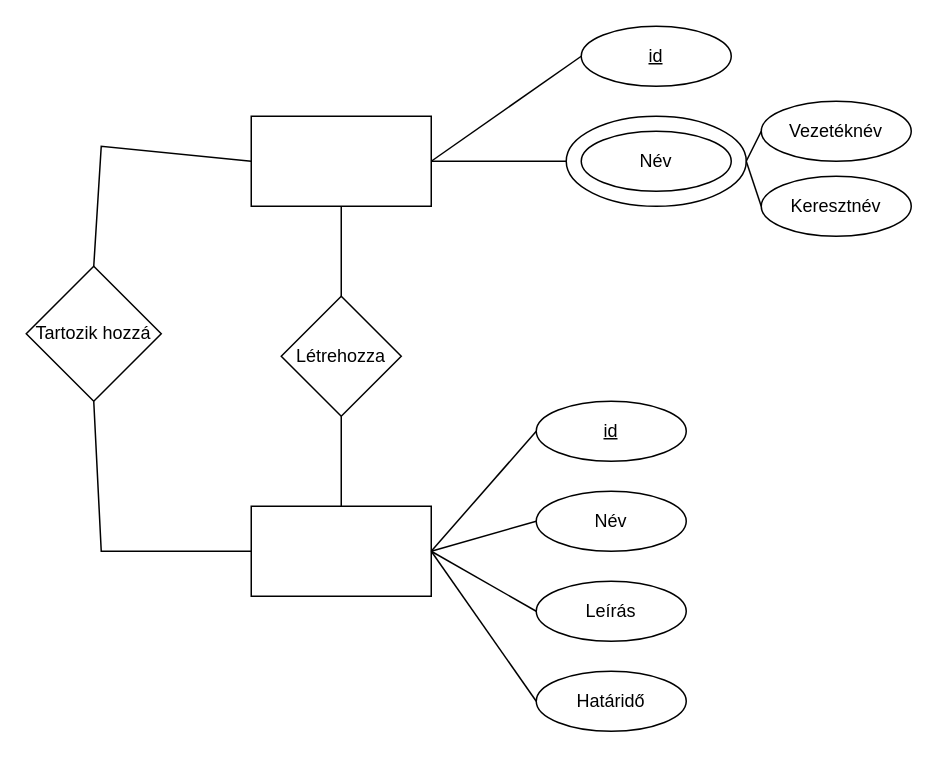
The diagram is 938 pixels wide and 758 high, and some of its shapes have lost their labels. The shapes that lost their labels are listed below. From the top down, each one's centre as x and y in pixels, then its label:
the point at 340,160: Felhasználó
the point at 340,550: Feladat
